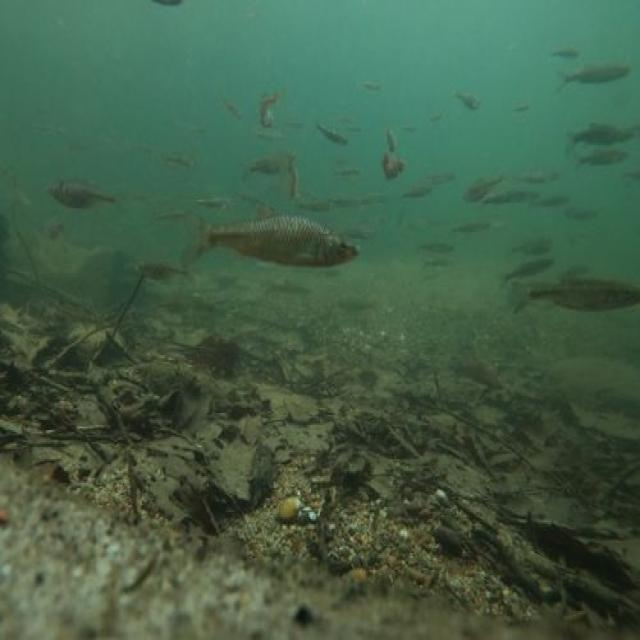Cakil Baligi: (181, 214, 367, 272), (505, 269, 640, 315)
